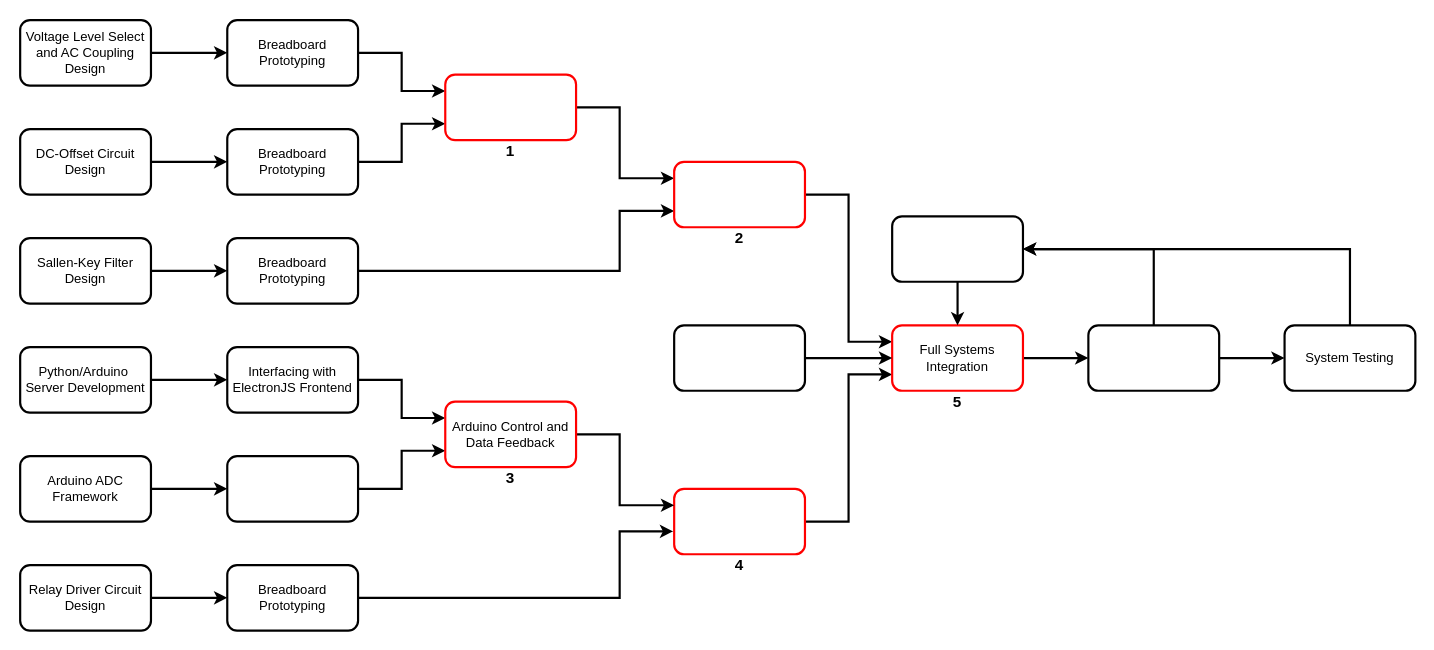
The diagram is 1434 pixels wide and 650 high, and some of its shapes have lost their labels. Here are the shapes that lost their labels. From the top down, the box of each, then its label:
(444, 73, 577, 141): AC RMS Prototyping (Low Frequency)
(673, 160, 806, 228): AC RMS Prototyping (High Frequency)
(891, 215, 1024, 282): PCB/Design Revision
(673, 324, 806, 391): PCB Schematic and Layout
(1087, 324, 1220, 391): Subsystem Testing
(226, 455, 359, 522): Arduino Firmware FSM Design
(673, 487, 806, 555): Automated Relay Switching
